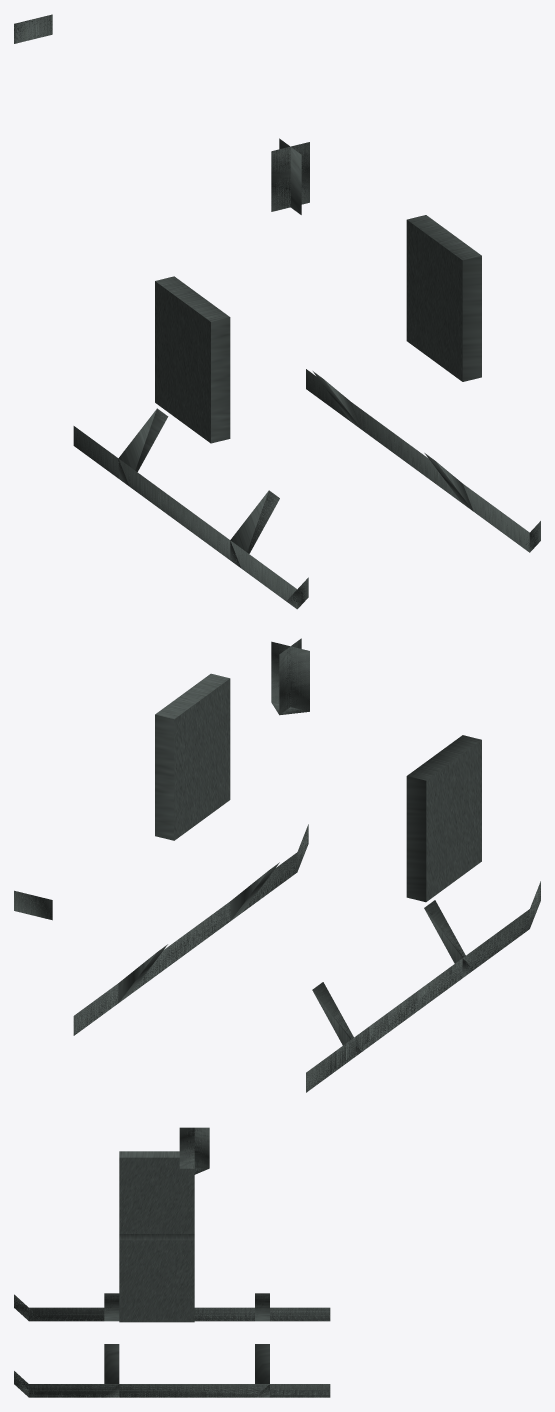
3 views of the same model, one above another, from view 1: azimuth 30°, elevation 25°; view 2: azimuth 150°, elevation 25°; view 3: azimuth 270°, elevation 25° (orthographic). The views are drawn at different scales.
Bounding box in the file's own units: 2.38 × 2.89 × 5.95.
Materials: 1 (1 with a texture image).
